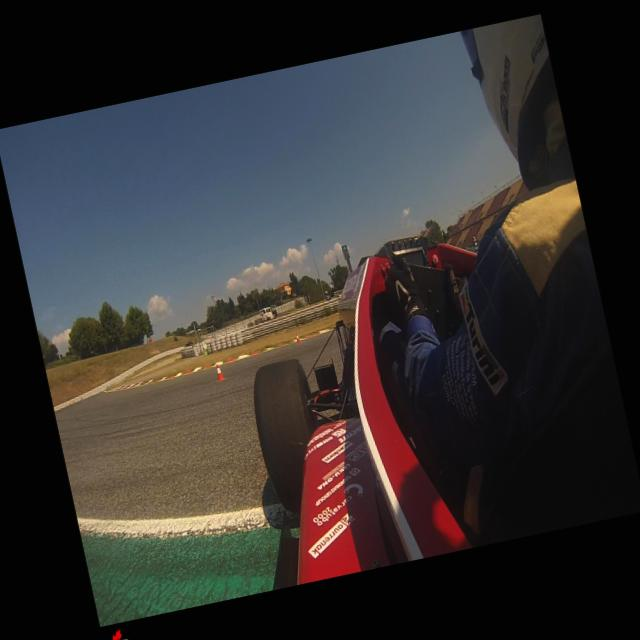orange_cone: (213, 362, 225, 381), (294, 332, 300, 344)
